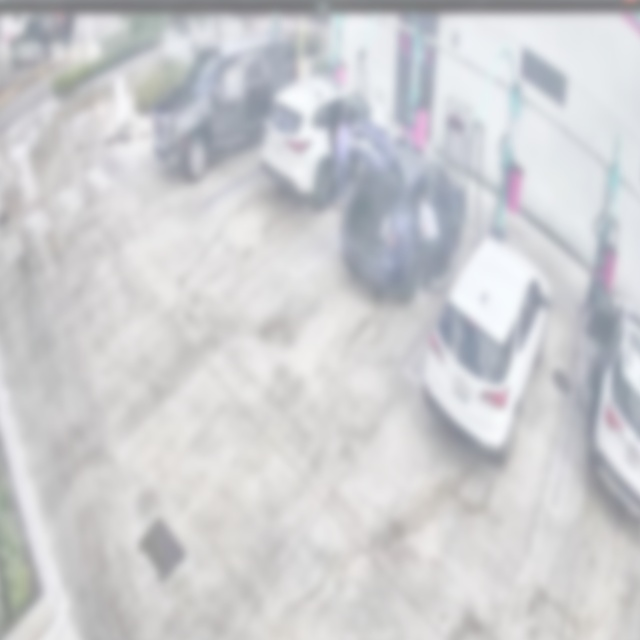Car: (422, 229, 550, 457), (149, 32, 299, 181), (339, 137, 469, 302), (261, 73, 393, 209)
